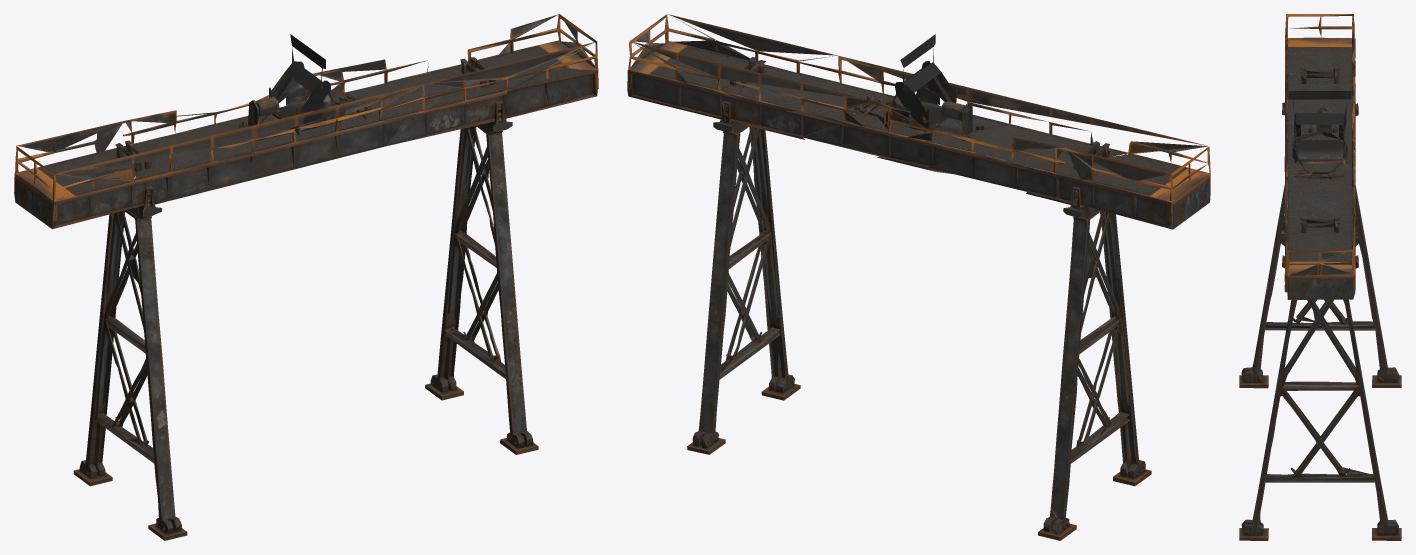
The model's file is training-conveyor.glb.
3 renders of one model, left to right at view 1: azimuth 30°, elevation 25°; view 2: azimuth 150°, elevation 25°; view 3: azimuth 270°, elevation 25°, orthographic. The views are drawn at different scales.
Size of the model in its own units: 1.9 by 1.38 by 0.551.
Materials: 1 (1 with a texture image).
